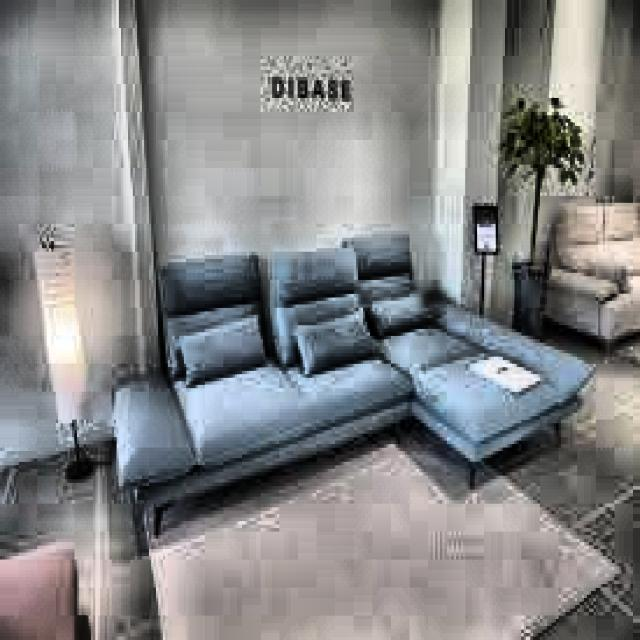sofa: (117, 227, 578, 511)
